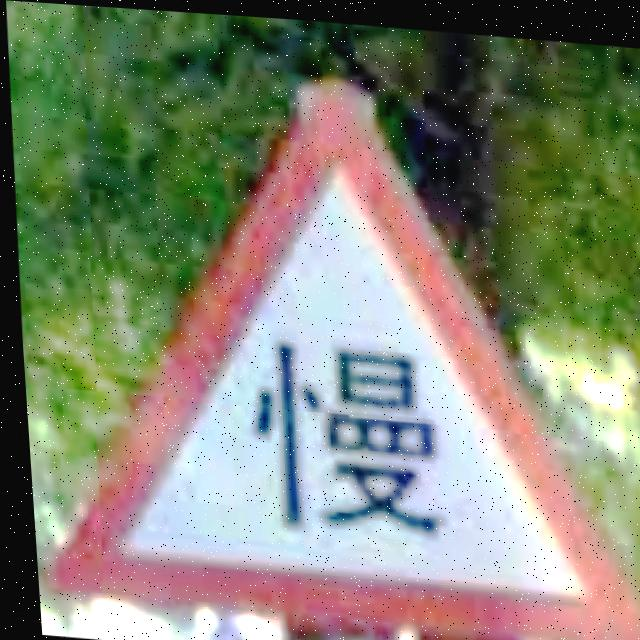slow: (43, 76, 640, 640)
